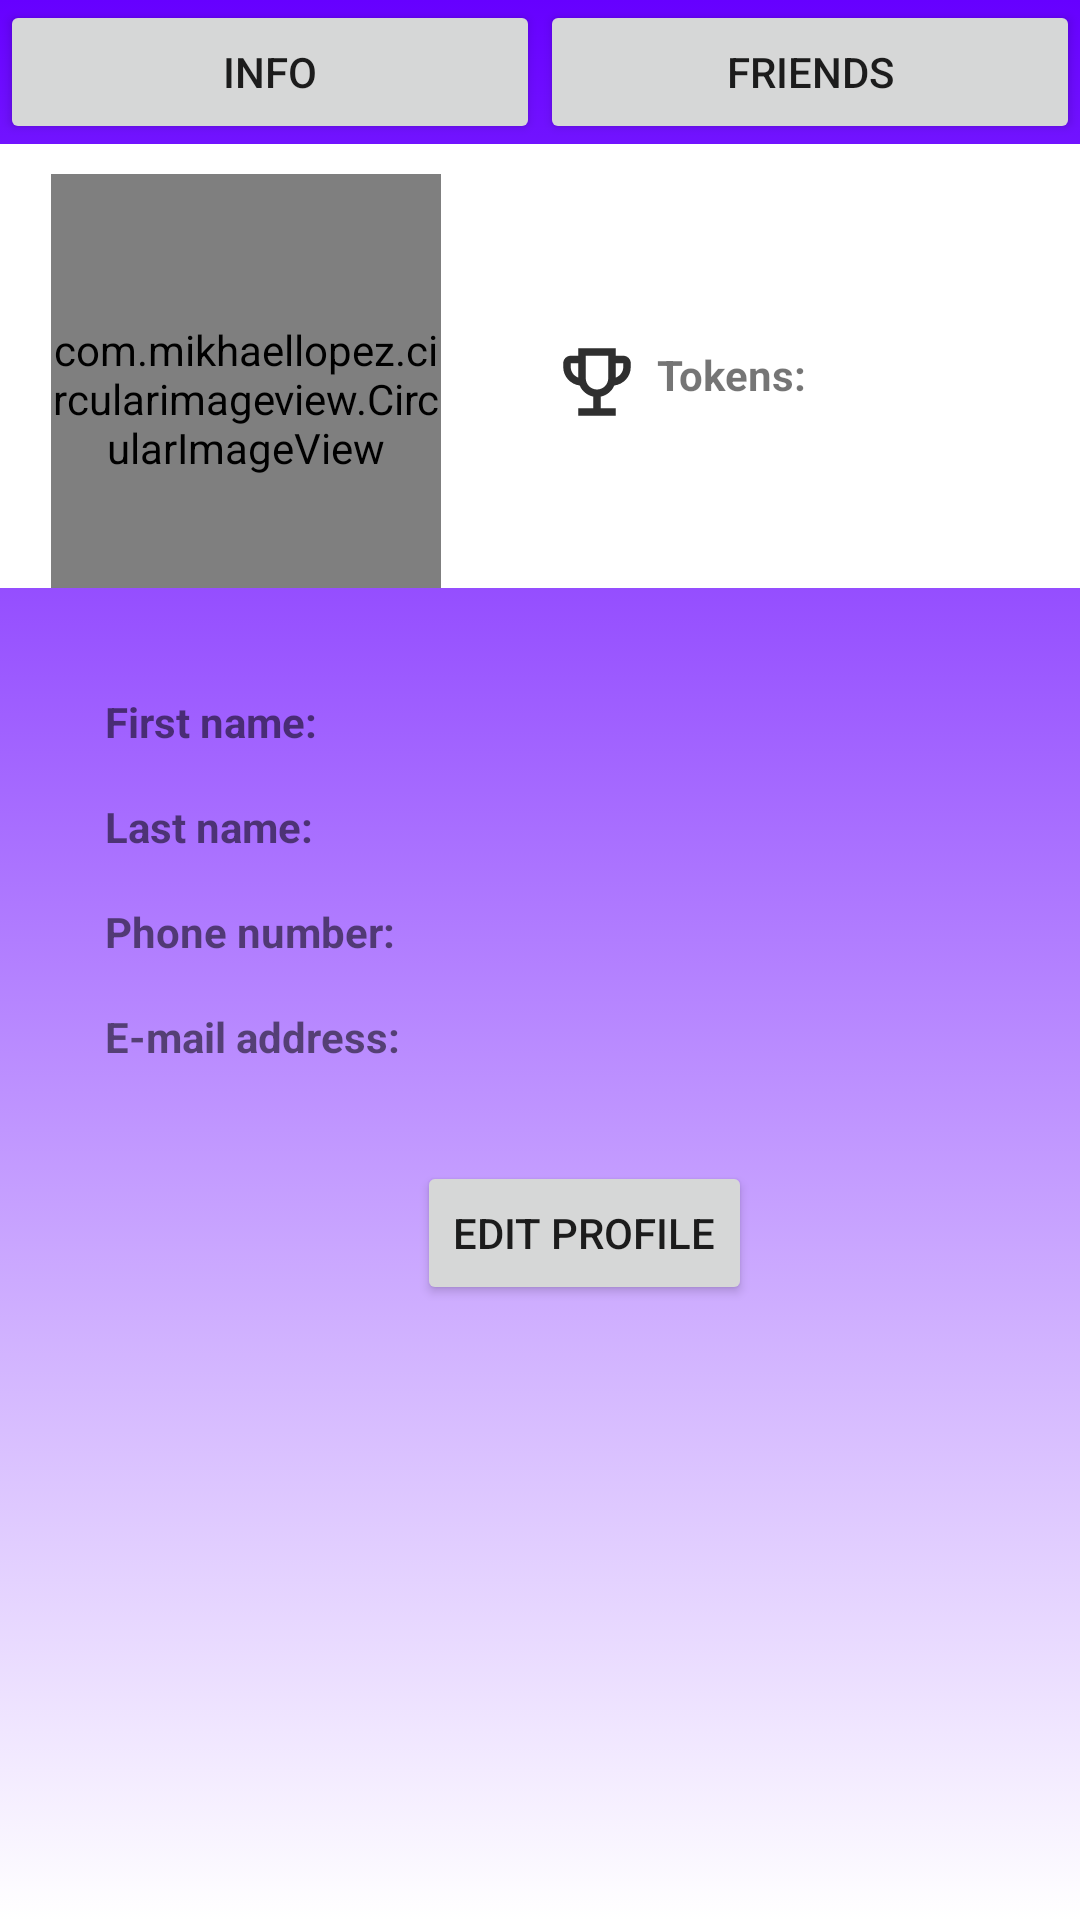

Point at icon controls on the screen. Image size 1080 × 1920, points as (x,y).
emoji events: (597,382)
